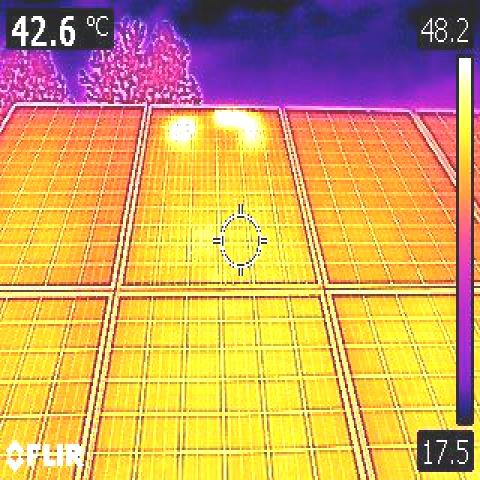fault: (165, 114, 197, 148), (216, 107, 248, 127), (244, 118, 264, 141)
